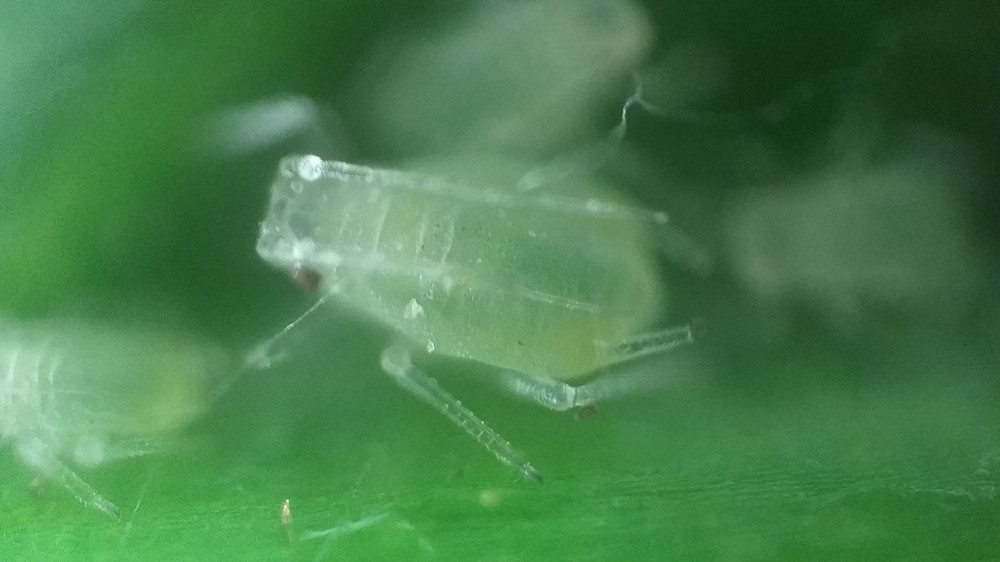Pulgon: (234, 93, 741, 499)
